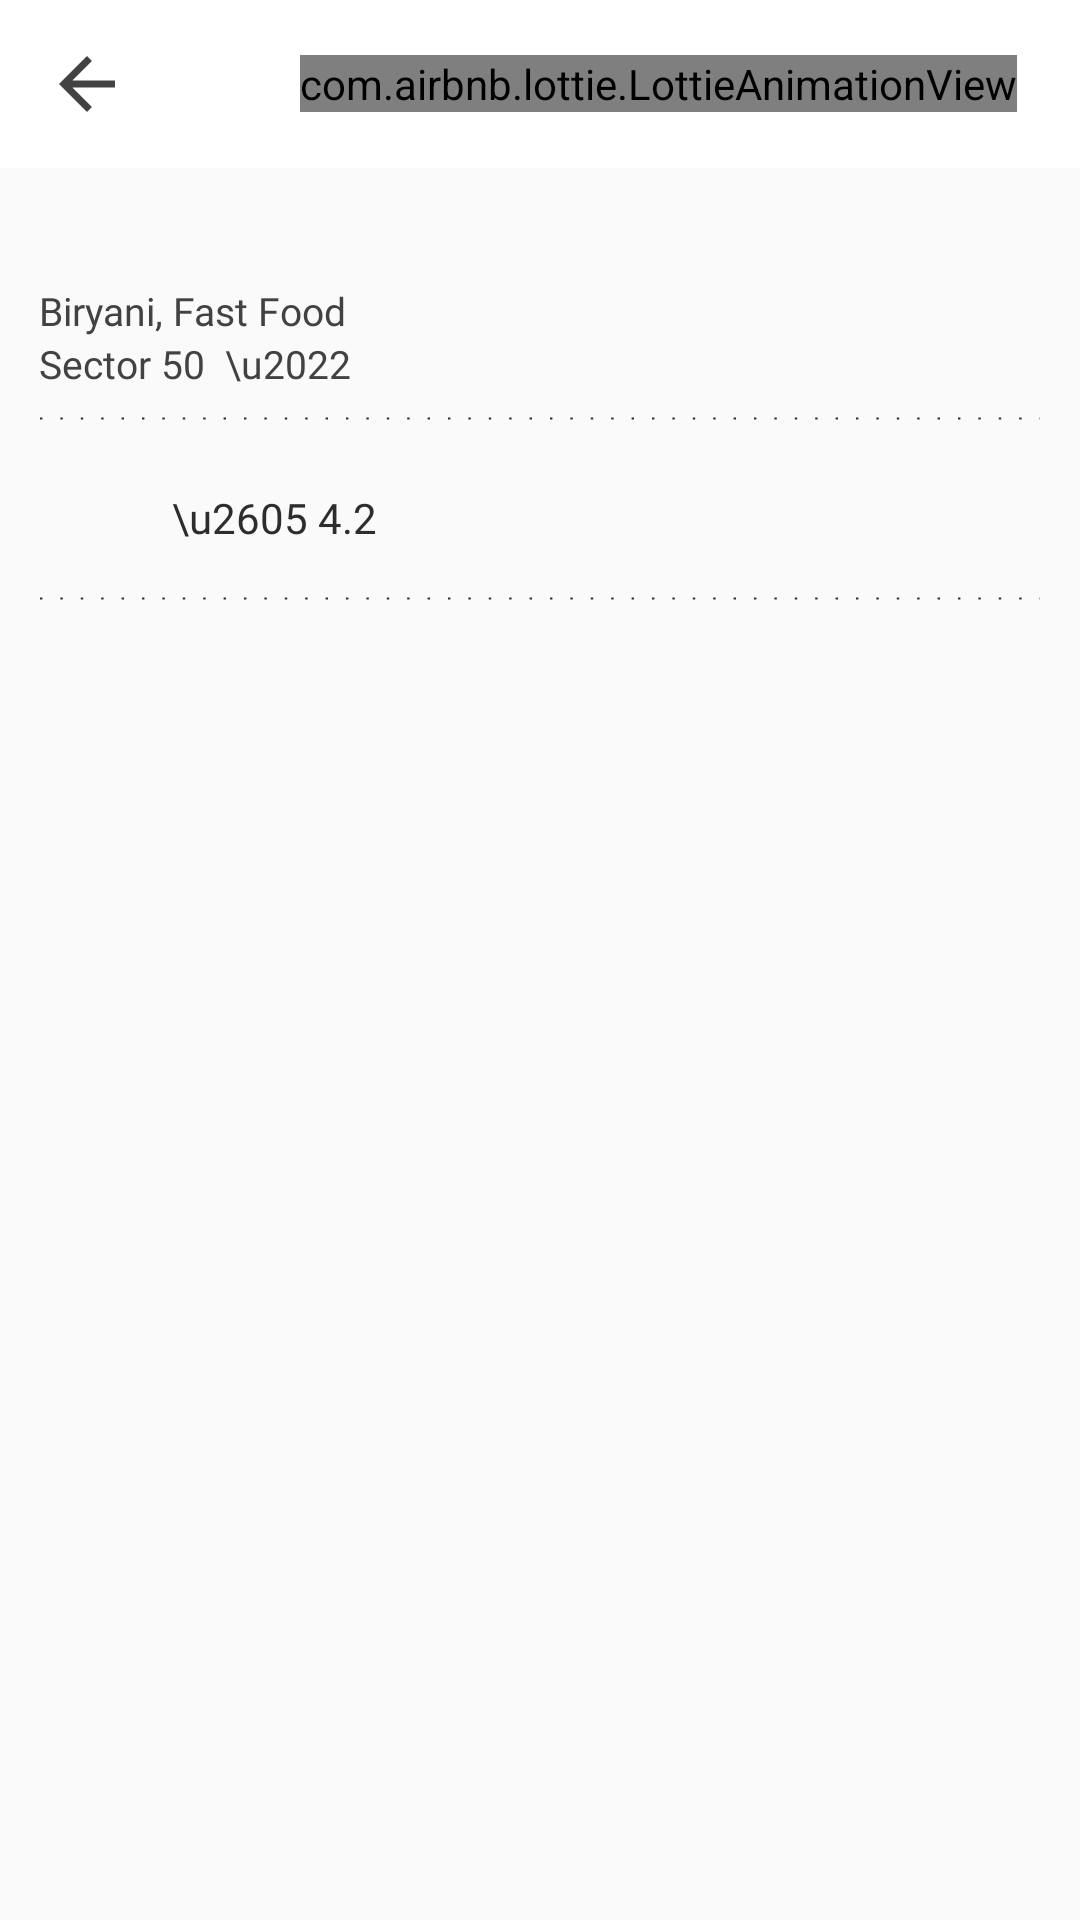

Locate icon controls on the screen. Image size 1080w x 1920h, boxes as (x1, y1, x2, y2).
back arrow: (59, 56, 115, 112)
